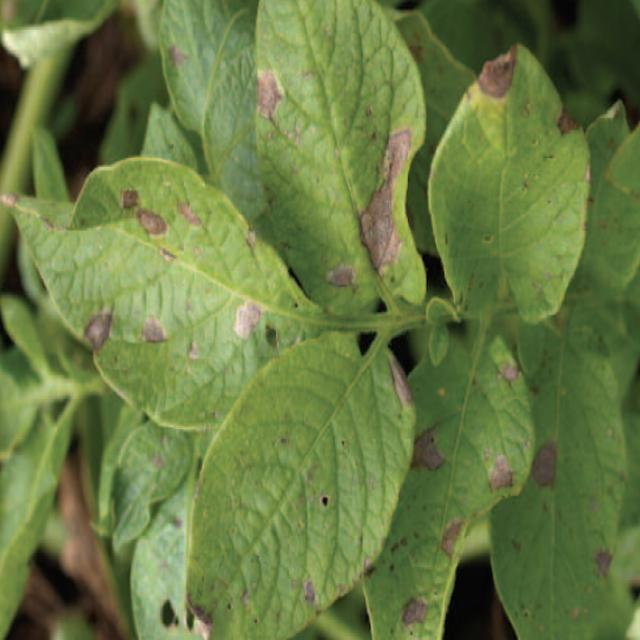earlyblight: (359, 129, 411, 275), (479, 44, 518, 98), (489, 335, 522, 382), (258, 69, 284, 121), (413, 427, 445, 469), (389, 352, 412, 407), (531, 440, 556, 486), (84, 310, 111, 352), (235, 301, 262, 338), (489, 453, 514, 490), (441, 518, 464, 557), (136, 209, 168, 234), (401, 598, 428, 626), (142, 318, 168, 342), (558, 105, 580, 133), (178, 204, 201, 226), (121, 190, 138, 208), (269, 333, 276, 346)
